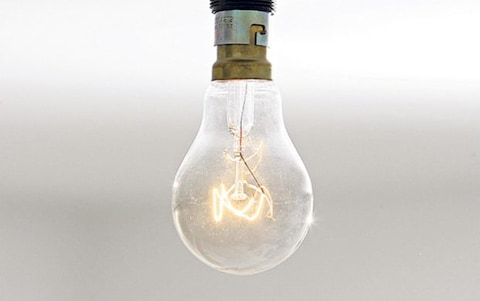Nonrec_Glass: (157, 3, 334, 280)
